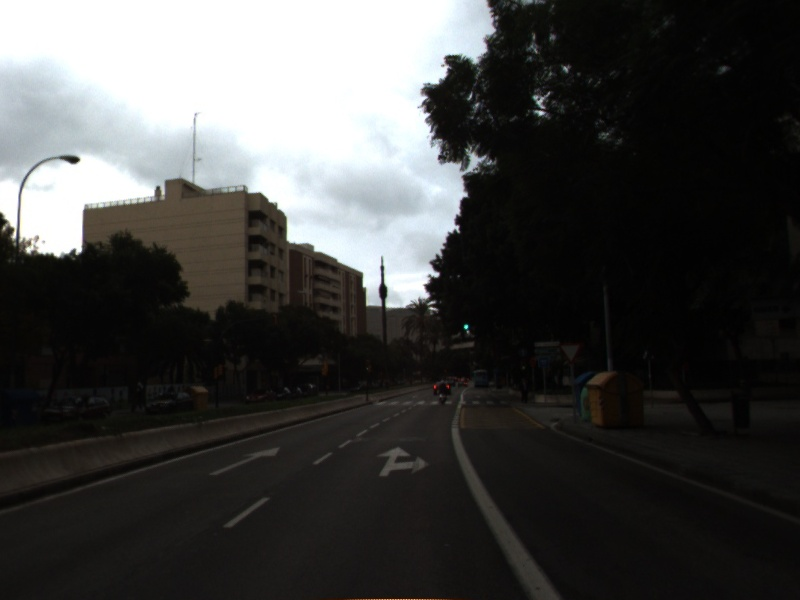STRAIGHT: (207, 445, 282, 478)
STRAIGHT_RIGHT: (374, 445, 433, 478)
